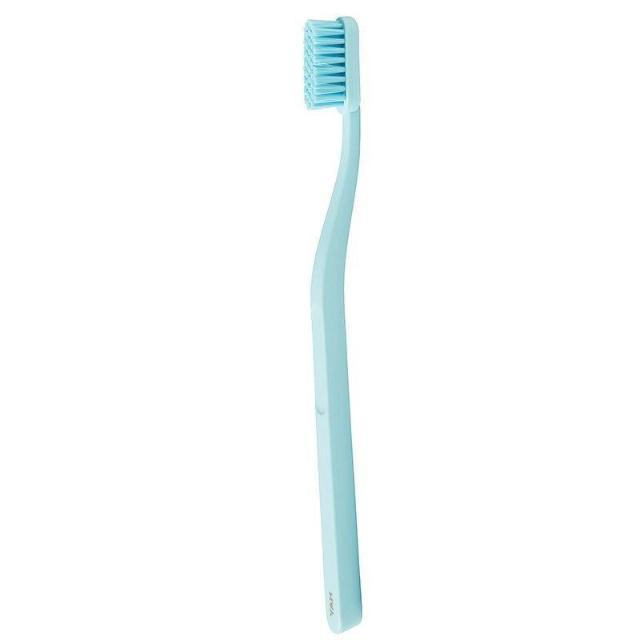toothbrush: (263, 12, 413, 640)
